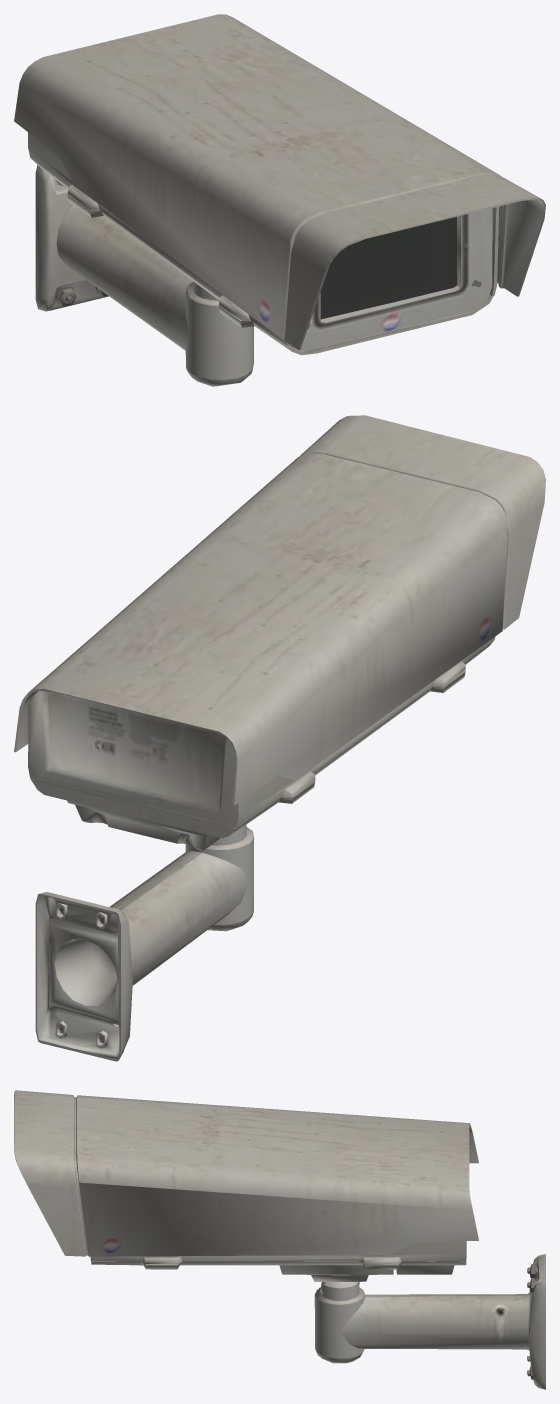
The model's file is security_camera_02.glb.
The picture shows the model from 3 angles, top to bottom: view 1: azimuth 30°, elevation 25°; view 2: azimuth 150°, elevation 25°; view 3: azimuth 270°, elevation 25°; orthographic projection. The views are drawn at different scales.
Visible parts, largest first — view 1: security_camera_02_mount, security_camera_02; view 2: security_camera_02_mount; view 3: security_camera_02_mount.
Boxes of the visible parts, x1,y1,x2,y2 form: security_camera_02_mount: (14,14,545,386); security_camera_02: (320,216,457,319); security_camera_02_mount: (14,415,545,1061); security_camera_02_mount: (14,1090,545,1389).
Bounding box in the file's own units: 0.1406 × 0.208 × 0.3934.
2 materials, 2 textured.
